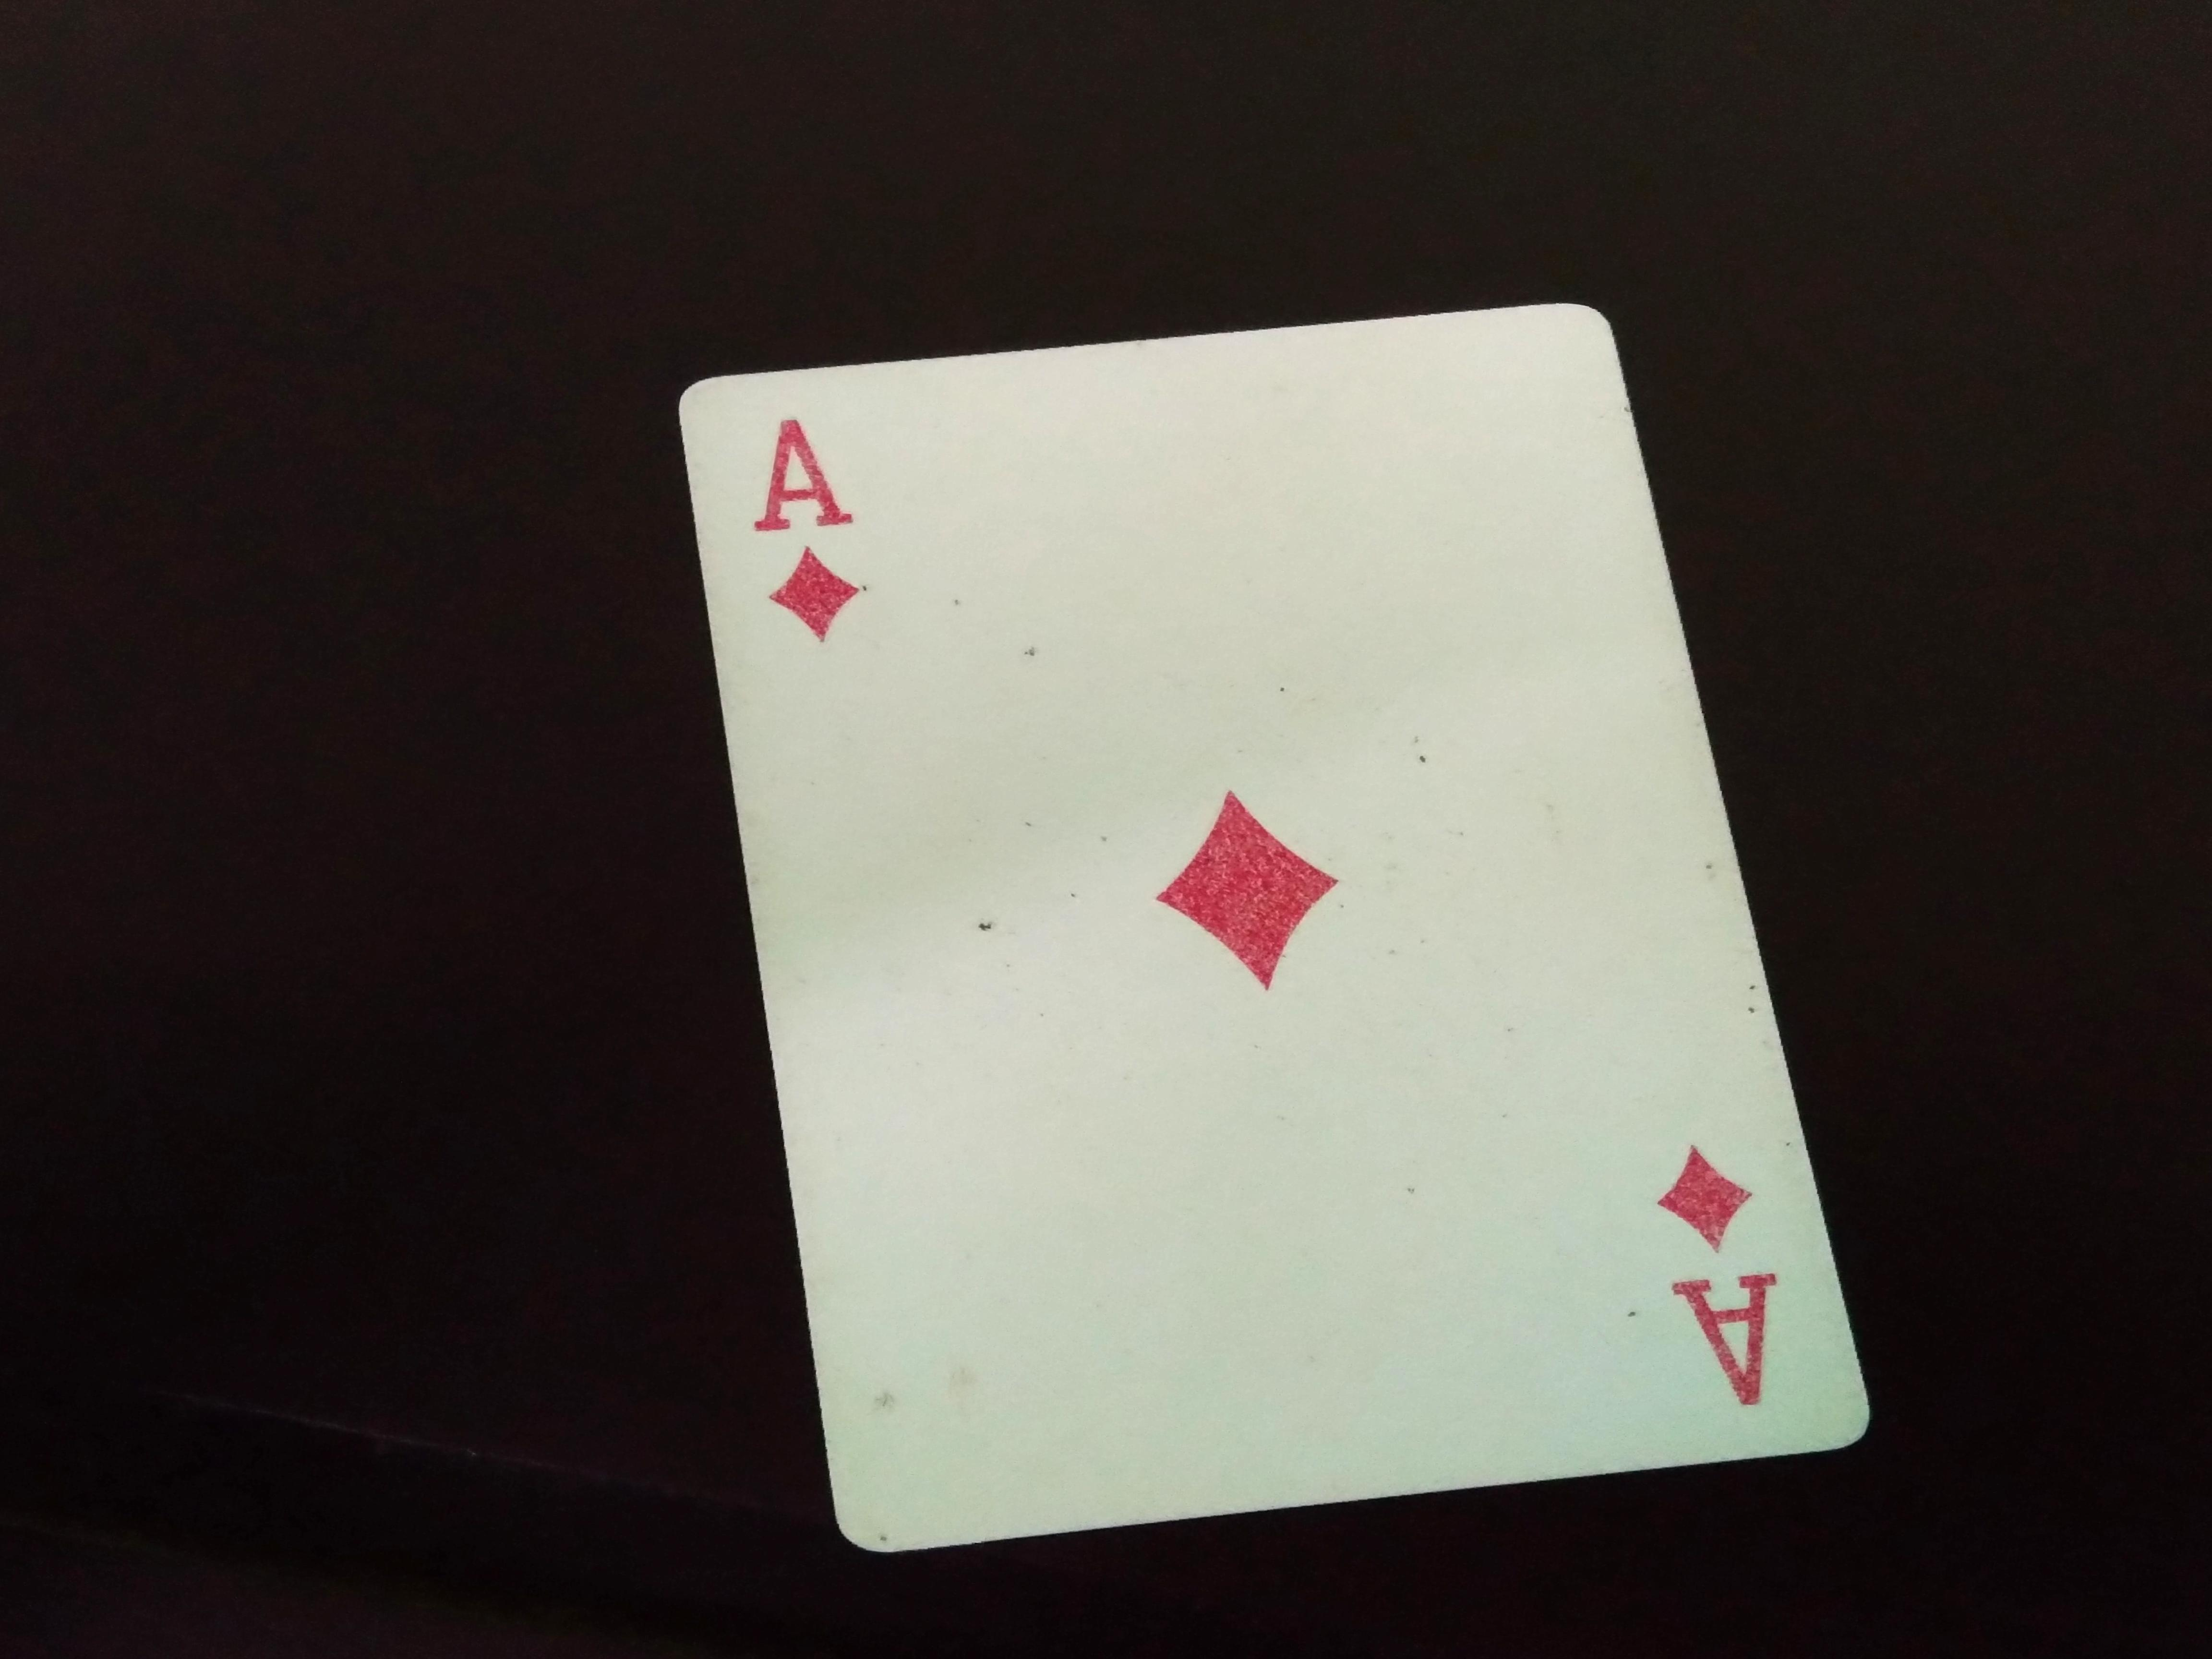AD: (745, 392, 876, 655)
